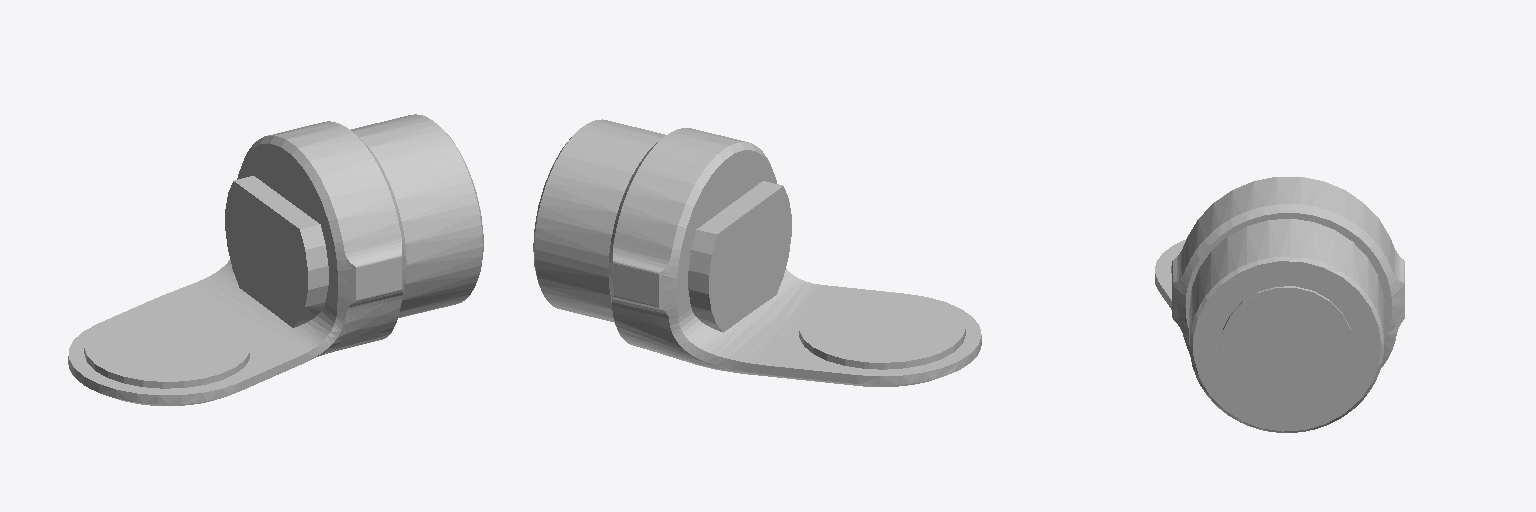
The model's file is right_elbow_link_collisions.obj.
The picture shows the model from 3 angles: view 1: azimuth 30°, elevation 25°; view 2: azimuth 150°, elevation 25°; view 3: azimuth 270°, elevation 25°; orthographic projection.
Size of the model in its own units: 0.1298 by 0.066 by 0.0752.